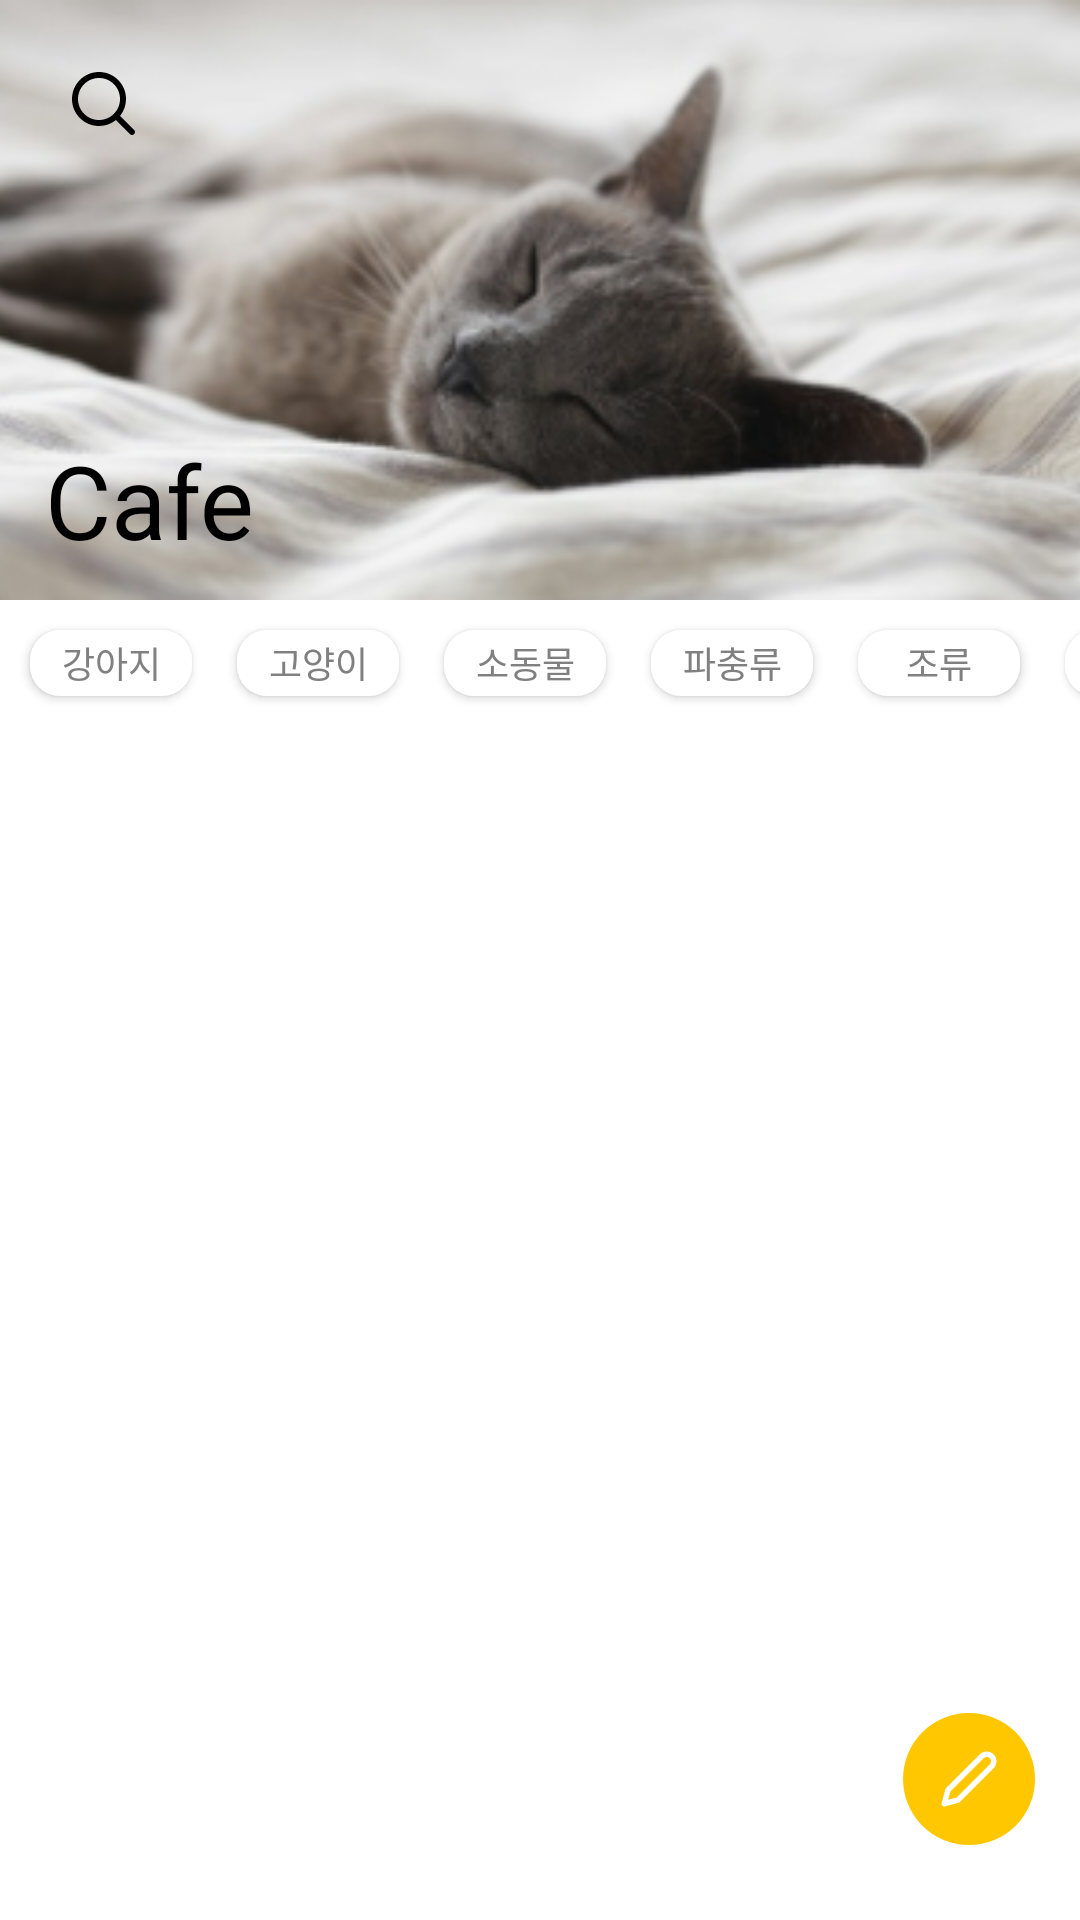

Screen size 1080*1920. Icon name, then its center in pixels as point (x, y):
add post: point (969, 1779)
search: point (105, 105)
